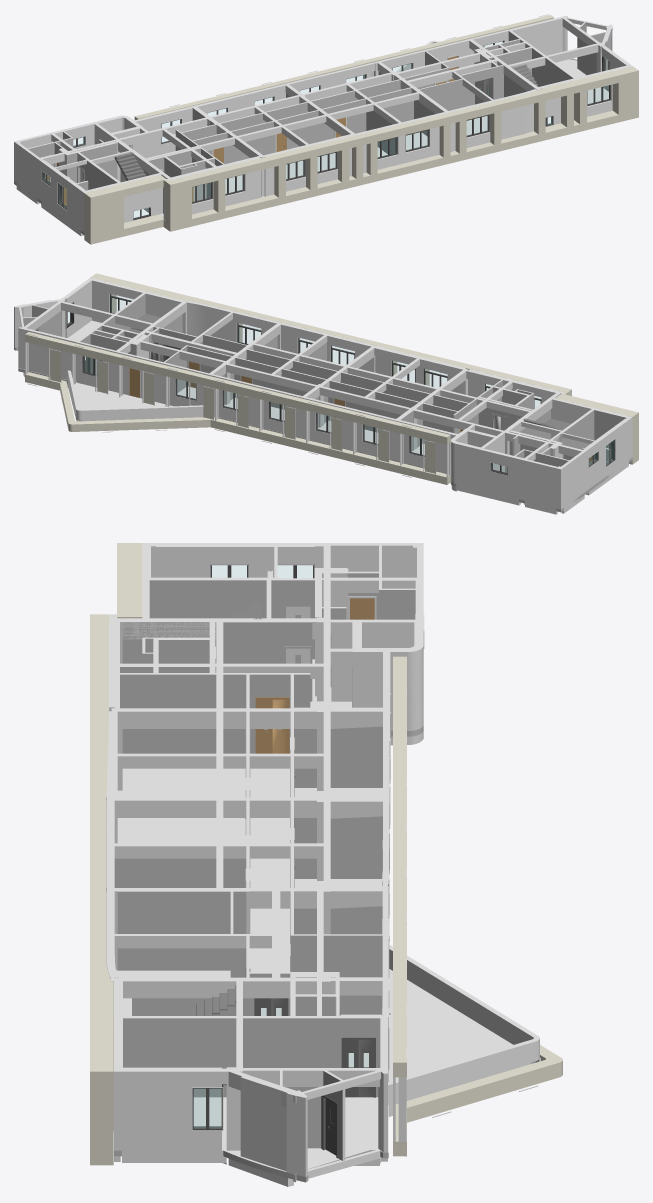
3 views of the same model, one above another, from view 1: azimuth 30°, elevation 25°; view 2: azimuth 150°, elevation 25°; view 3: azimuth 270°, elevation 25° (orthographic). The views are drawn at different scales.
Visible parts, largest first — view 1: 矩形钢管_杆件_30x30x5__2279734__1; view 2: 矩形钢管_杆件_30x30x5__2279734__1; view 3: 矩形钢管_杆件_30x30x5__2279734__1.
Boxes of the visible parts, x1,y1,x2,y2 form: 矩形钢管_杆件_30x30x5__2279734__1: (14, 14, 638, 244); 矩形钢管_杆件_30x30x5__2279734__1: (14, 273, 638, 514); 矩形钢管_杆件_30x30x5__2279734__1: (90, 543, 562, 1186).
Size of the model in its own units: 48220 by 4000 by 17352.
